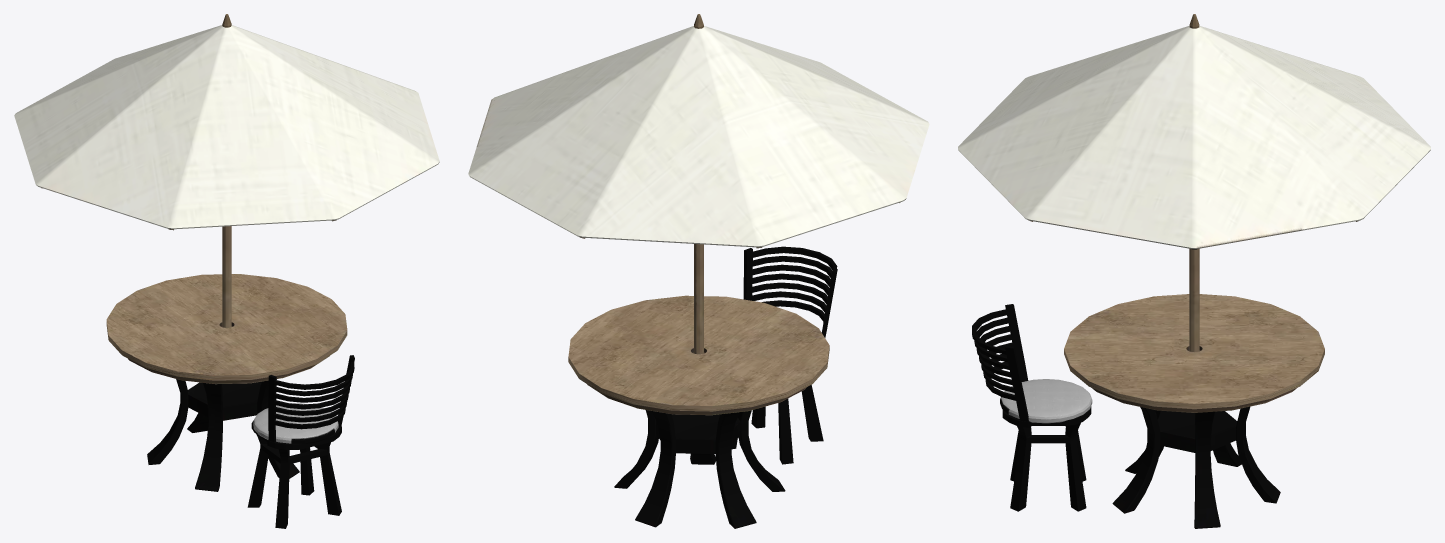
The model's file is beachTable.glb.
The picture shows the model from 3 angles, left to right: view 1: azimuth 30°, elevation 25°; view 2: azimuth 150°, elevation 25°; view 3: azimuth 270°, elevation 25°; orthographic projection. The views are drawn at different scales.
Parts seen in each view (by area): view 1: pCone2_lambert1_0, pCylinder7_lambert3_0, pCylinder9_lambert4_0; view 2: pCone2_lambert1_0, pCylinder7_lambert3_0, pCylinder9_lambert4_0; view 3: pCone2_lambert1_0, pCylinder7_lambert3_0, pCylinder9_lambert4_0.
Boxes of the visible parts, left/top/right/bottom form: pCone2_lambert1_0: left=14, top=14, right=439, bottom=327; pCylinder7_lambert3_0: left=106, top=274, right=347, bottom=491; pCylinder9_lambert4_0: left=247, top=355, right=354, bottom=528; pCone2_lambert1_0: left=468, top=14, right=929, bottom=354; pCylinder7_lambert3_0: left=568, top=295, right=829, bottom=528; pCylinder9_lambert4_0: left=731, top=246, right=837, bottom=464; pCone2_lambert1_0: left=958, top=14, right=1430, bottom=351; pCylinder7_lambert3_0: left=1064, top=294, right=1324, bottom=528; pCylinder9_lambert4_0: left=972, top=304, right=1092, bottom=511.
Bounding box in the file's own units: 2.14 × 2.4 × 2.14.
Materials: 3 (3 with a texture image).
